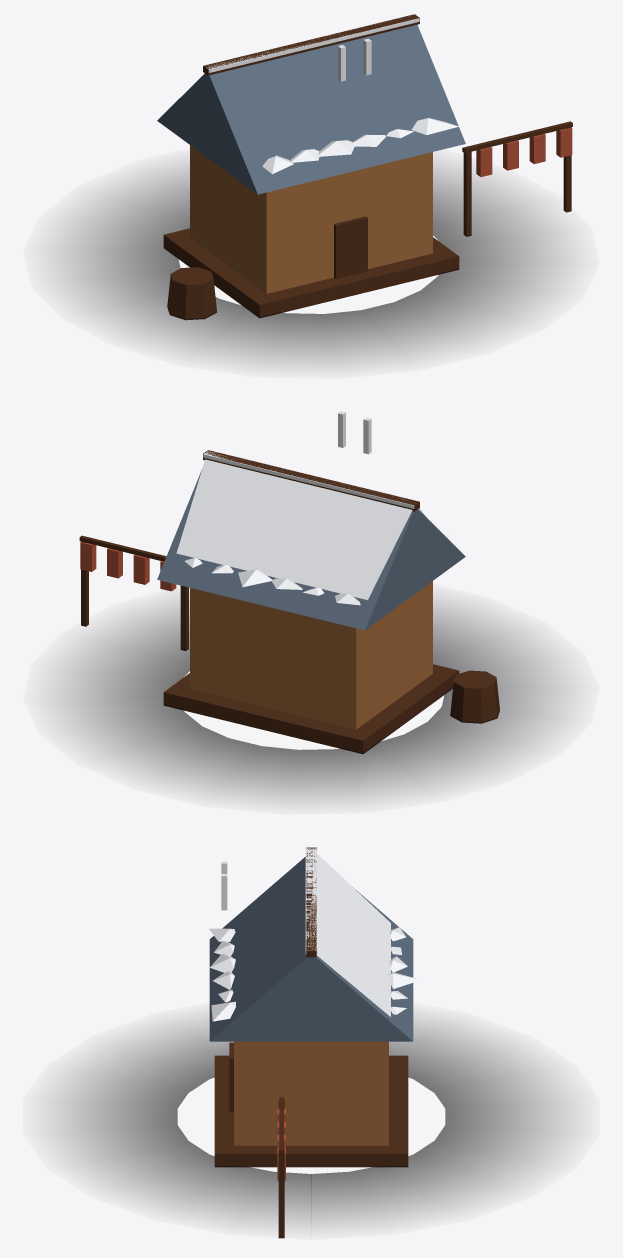
Rendered from hunter_t2.glb.
3 renders of one model, top to bottom at view 1: azimuth 30°, elevation 25°; view 2: azimuth 150°, elevation 25°; view 3: azimuth 270°, elevation 25°, orthographic.
Parts seen in each view (by area): view 1: hunter_t2; view 2: hunter_t2; view 3: hunter_t2.
Boxes of the visible parts, <box> form: hunter_t2: <box>59,14,572,363</box>; hunter_t2: <box>59,411,563,799</box>; hunter_t2: <box>59,847,563,1238</box>.
Size of the model in its own units: 8.06 by 3.69 by 7.98.
